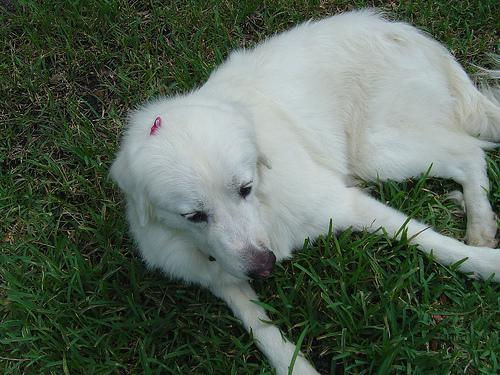Great_Pyrenees: (109, 7, 499, 374)
